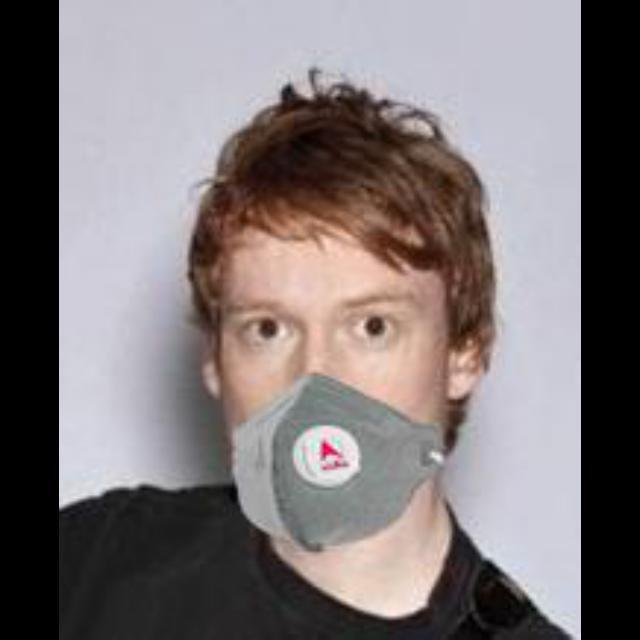suspicion: (161, 99, 554, 545)
